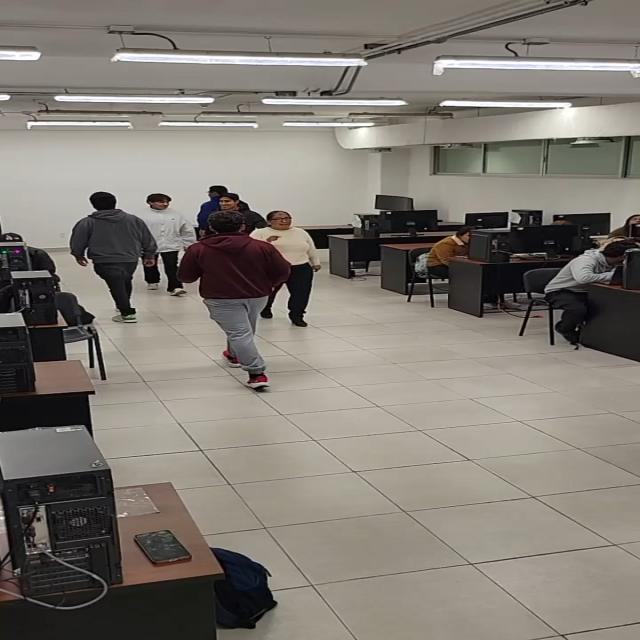Persona: (175, 210, 293, 390), (70, 191, 158, 324), (251, 209, 322, 329), (134, 192, 194, 297)
